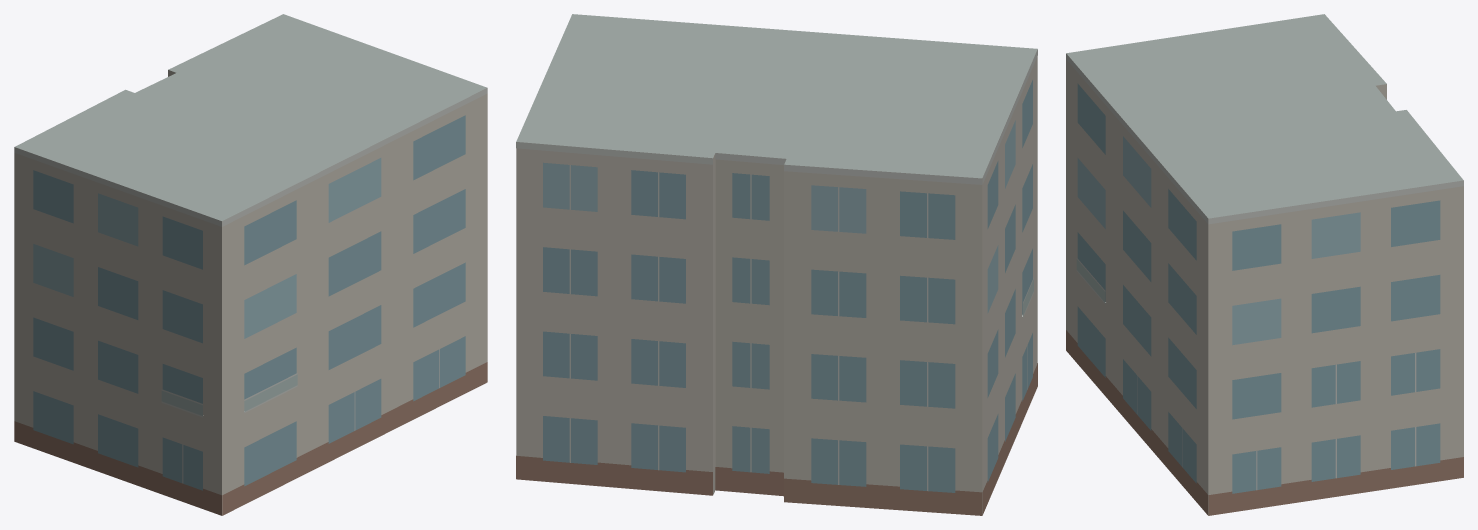
Rendered from survey-upis-32952933.glb.
3 renders of one model, left to right at view 1: azimuth 30°, elevation 25°; view 2: azimuth 150°, elevation 25°; view 3: azimuth 270°, elevation 25°, orthographic. The views are drawn at different scales.
Parts seen in each view (by area): view 1: survey-upis-32952933.tmp; view 2: survey-upis-32952933.tmp; view 3: survey-upis-32952933.tmp.
Boxes of the visible parts, x1,y1,x2,y2 form: survey-upis-32952933.tmp: (14,14,487,515); survey-upis-32952933.tmp: (516,14,1037,515); survey-upis-32952933.tmp: (1066,14,1463,515).
Size of the model in its own units: 18.61 by 12.6 by 15.29.
